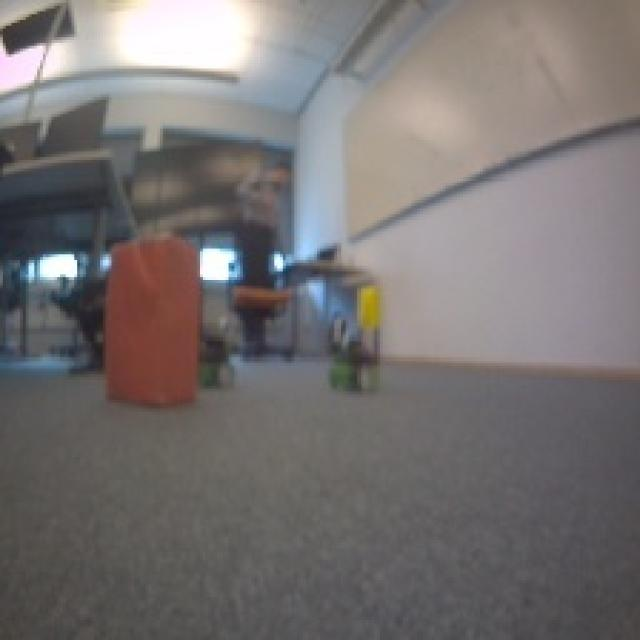robot: (327, 334, 384, 392), (192, 331, 240, 392)
target: (100, 228, 203, 406)
